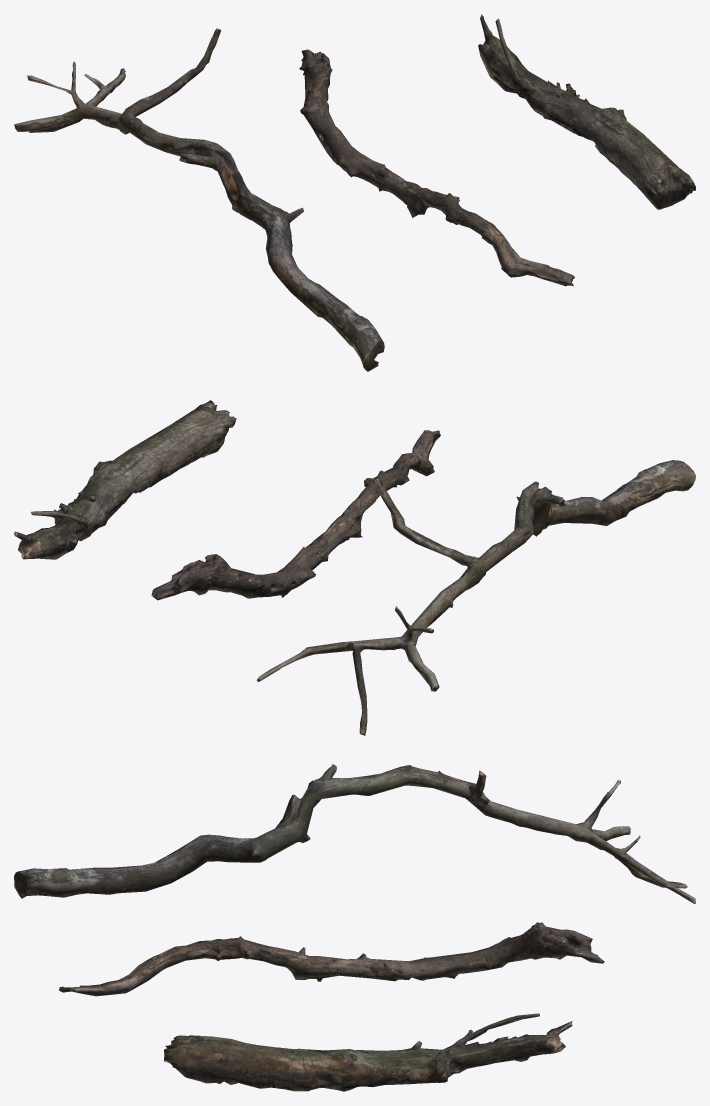
Rendered from dry_branches_medium_01.glb.
3 renders of one model, top to bottom at view 1: azimuth 30°, elevation 25°; view 2: azimuth 150°, elevation 25°; view 3: azimuth 270°, elevation 25°, orthographic. The views are drawn at different scales.
Size of the model in its own units: 1.06 by 0.3401 by 1.3.
Materials: 1 (1 with a texture image).
